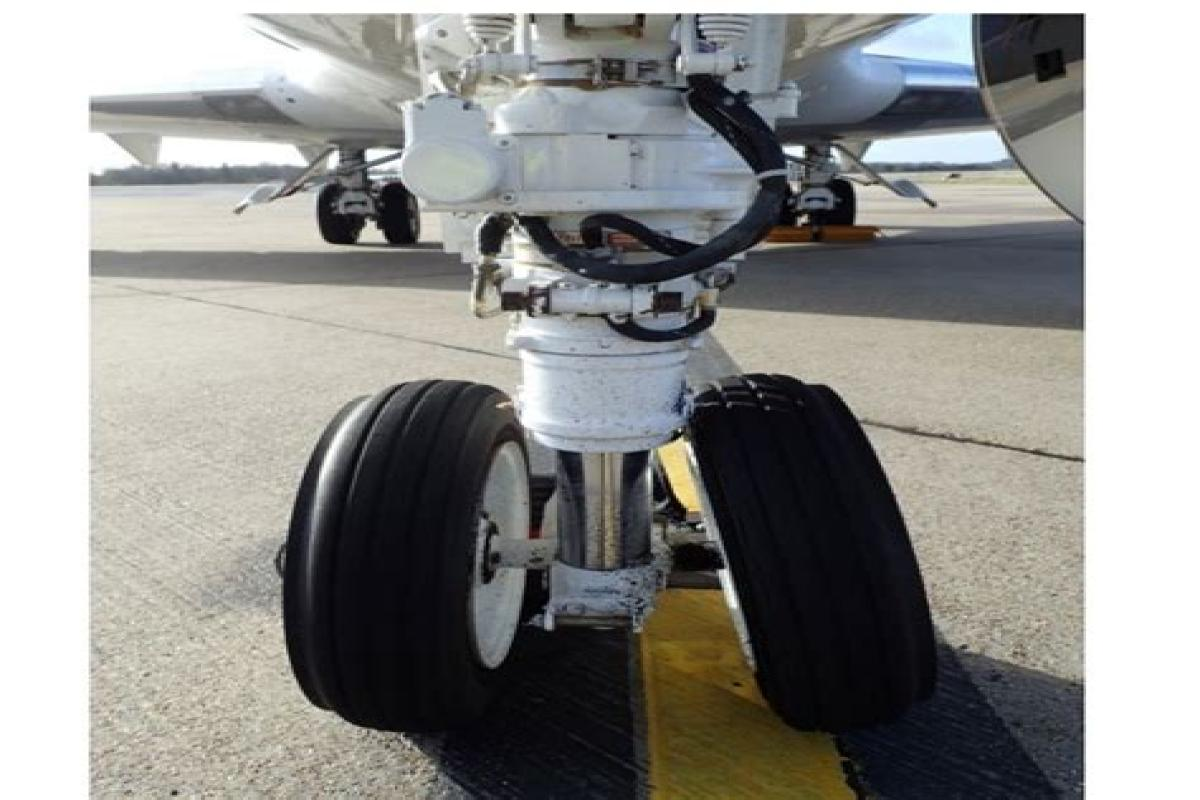Fuselage_damage: (624, 346, 969, 749)
